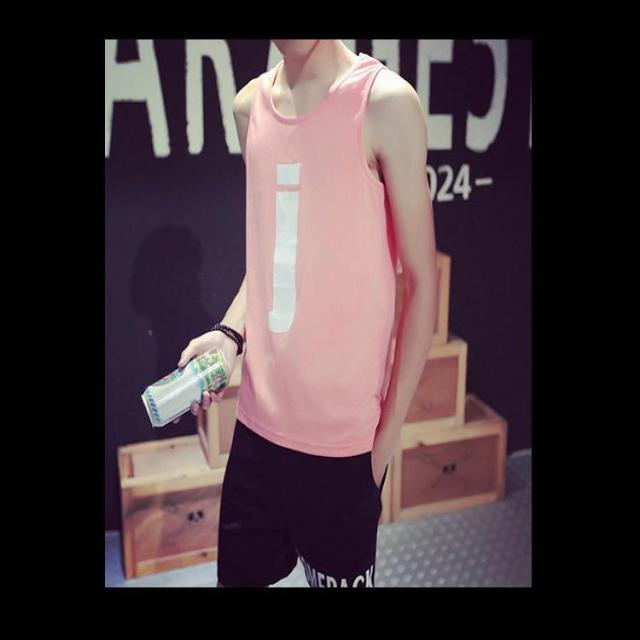shorts: (218, 396, 382, 583)
vest: (236, 56, 395, 453)
